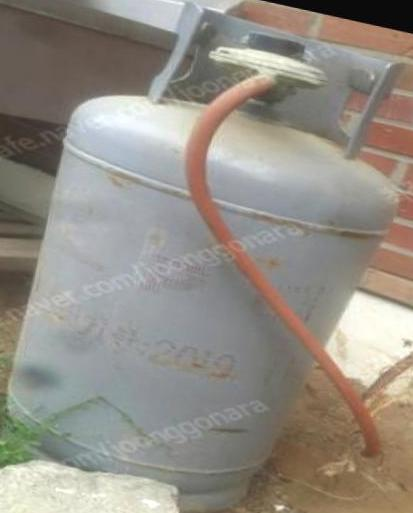cylinder: (1, 1, 413, 513)
